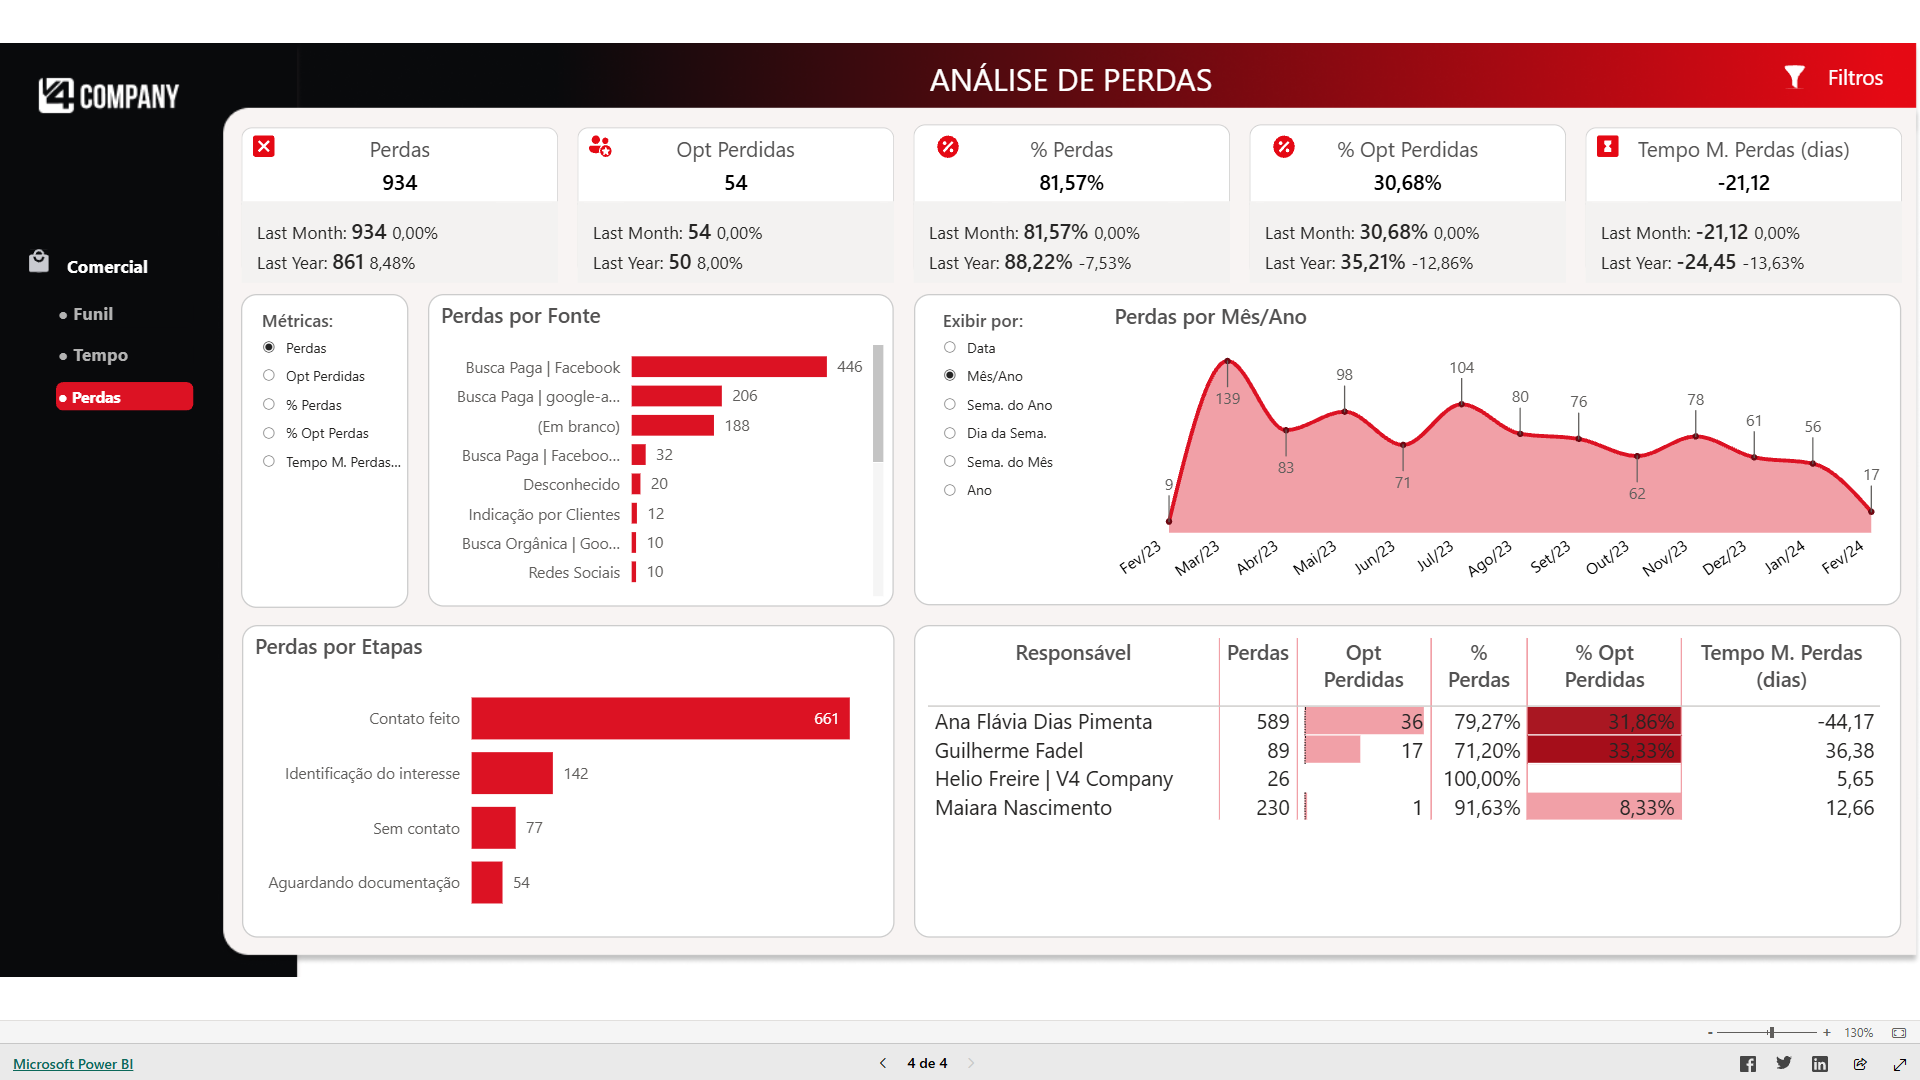

The dashboard page shown, as its layout file describes it:
{"tool":"powerbi","page":{"name":"● Perdas","canvas":[1480,720],"ordinal":11},"visuals":[{"type":"textbox","box":[658.1,6.1,334.6,43.5],"z":0},{"type":"group","id":"g1","title":"Menu","box":[15.7,103.4,145.3,123],"z":0,"group":"g5"},{"type":"group","id":"g2","title":"Tráfego Pago","box":[15.7,103.4,145.3,123],"z":0,"group":"g1"},{"type":"pageNavigator","box":[50.4,144.8,110.6,81.6],"z":0,"group":"g2"},{"type":"group","id":"g3","title":"Comercial","box":[15.4,239.5,139.7,127.9],"z":0,"group":"g4"},{"type":"pageNavigator","box":[49,278.5,106.1,88.9],"z":0,"group":"g3"},{"type":"actionButton","box":[1370.3,2.7,85.2,45.3],"z":1000},{"type":"actionButton","box":[15.7,103.4,120,32],"z":1000,"group":"g2"},{"type":"group","id":"g4","title":"Menu","box":[15.4,239.5,139.7,127.9],"z":1000,"group":"g5"},{"type":"actionButton","box":[15.4,239.5,101,32],"z":1000,"group":"g3"},{"type":"cardVisual","fields":{"Data":["_medidas.Qtd Perdas","_medidas.Qtd_Oportunidades_Perdidas","_medidas.%_TX_de_Perdas","_medidas.%_TX_de_Oportunidades_Perdidas","_medidas.Tempo_Médio_Perdas"]},"box":[181.2,53.7,1291.7,136.7],"z":2000},{"type":"barChart","fields":{"Y":["_medidas.Qtd_Perdas"],"Category":["dim_etapas.stage_name"]},"box":[186.3,448.5,503.1,240.9],"z":3000},{"type":"pivotTable","fields":{"Rows":["dim_etapas.pipeline_name","dim_users.user_name"],"Values":["_medidas.Qtd_Perdas","_medidas.Qtd_Oportunidades_Perdidas","_medidas.%_TX_de_Perdas","_medidas.%_TX_de_Oportunidades_Perdidas","_medidas.Tempo_Médio_Perdas"]},"box":[704.6,448.5,761.3,240.9],"z":4000},{"type":"shape","box":[704.6,193.4,761.3,239.9],"z":5000},{"type":"slicer","fields":{"Values":["Datas.Parâmetro"]},"box":[713.7,199.5,140.6,234.9],"z":6000},{"type":"areaChart","fields":{"Category":["dim_data.Mês/Ano"],"Y":["_medidas.Qtd_Perdas"]},"box":[854.4,199.4,611.4,234.9],"z":7000},{"type":"barChart","fields":{"Y":["_medidas.Qtd_Perdas"],"Category":["dim_etapas.pipeline_name"]},"box":[330.1,193.2,359.1,241.2],"z":8000},{"type":"shape","box":[185.9,193.2,128.8,242.1],"z":9000},{"type":"slicer","fields":{"Values":["_MetricasCRM._MetricasCRM"]},"box":[188.6,199.5,126.1,235.8],"z":10000},{"type":"group","id":"g5","title":"Grupo 1","box":[15.4,103.4,145.7,264],"z":12000}]}

Visuals, with their boxes on the page's 1480x720 design canvas (x1, y1, x2, y2). These are canvas units, not pixel positions in the 1920x1080 screenshot, which may show the page scaled, cropped or inside an application window:
textbox: 658, 6, 993, 50
"Menu" group: 16, 103, 161, 226
"Tráfego Pago" group: 16, 103, 161, 226
pageNavigator: 50, 145, 161, 226
"Comercial" group: 15, 240, 155, 367
pageNavigator: 49, 278, 155, 367
actionButton: 1370, 3, 1456, 48
actionButton: 16, 103, 136, 135
"Menu" group: 15, 240, 155, 367
actionButton: 15, 240, 116, 272
cardVisual - _medidas.Qtd Perdas x _medidas.Qtd_Oportunidades_Perdidas: 181, 54, 1473, 190
barChart - _medidas.Qtd_Perdas x dim_etapas.stage_name: 186, 448, 689, 689
pivotTable - dim_etapas.pipeline_name x dim_users.user_name: 705, 448, 1466, 689
shape: 705, 193, 1466, 433
slicer - Datas.Parâmetro: 714, 200, 854, 434
areaChart - dim_data.Mês/Ano x _medidas.Qtd_Perdas: 854, 199, 1466, 434
barChart - _medidas.Qtd_Perdas x dim_etapas.pipeline_name: 330, 193, 689, 434
shape: 186, 193, 315, 435
slicer - _MetricasCRM._MetricasCRM: 189, 200, 315, 435
"Grupo 1" group: 15, 103, 161, 367
